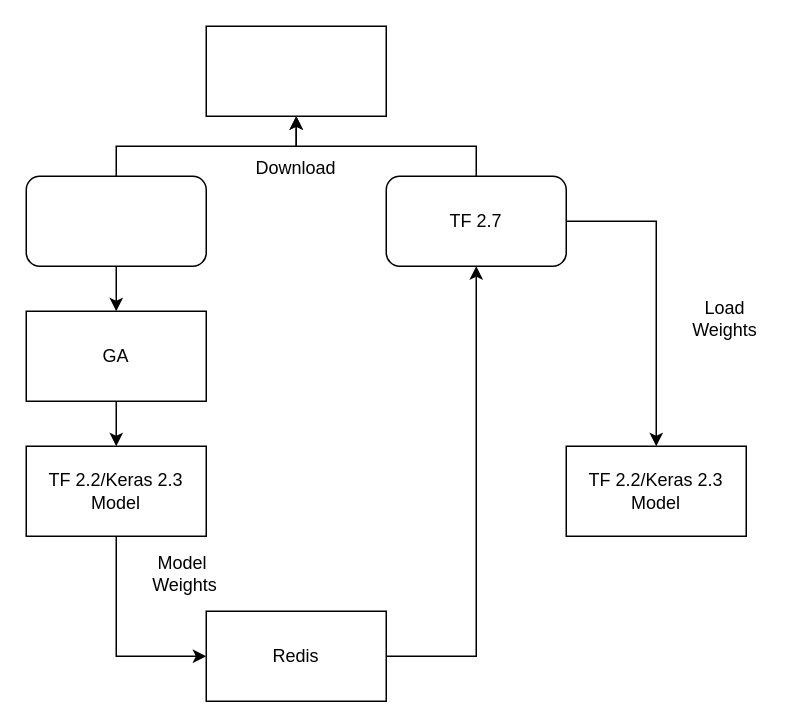
Image size: 797x728. Some labels were removed from this diagram. Here are the shapes that lost their labels. From the top down, the centre of each, then its label:
At (x=295, y=70): "TensorFlow Public Model Applications".
At (x=115, y=220): "TF 2.2".
